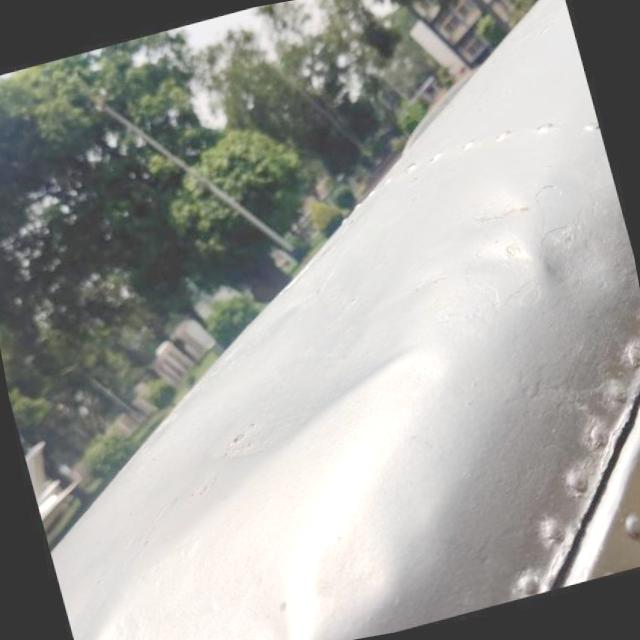dent: (130, 162, 492, 506), (433, 181, 576, 307), (515, 187, 640, 321)
